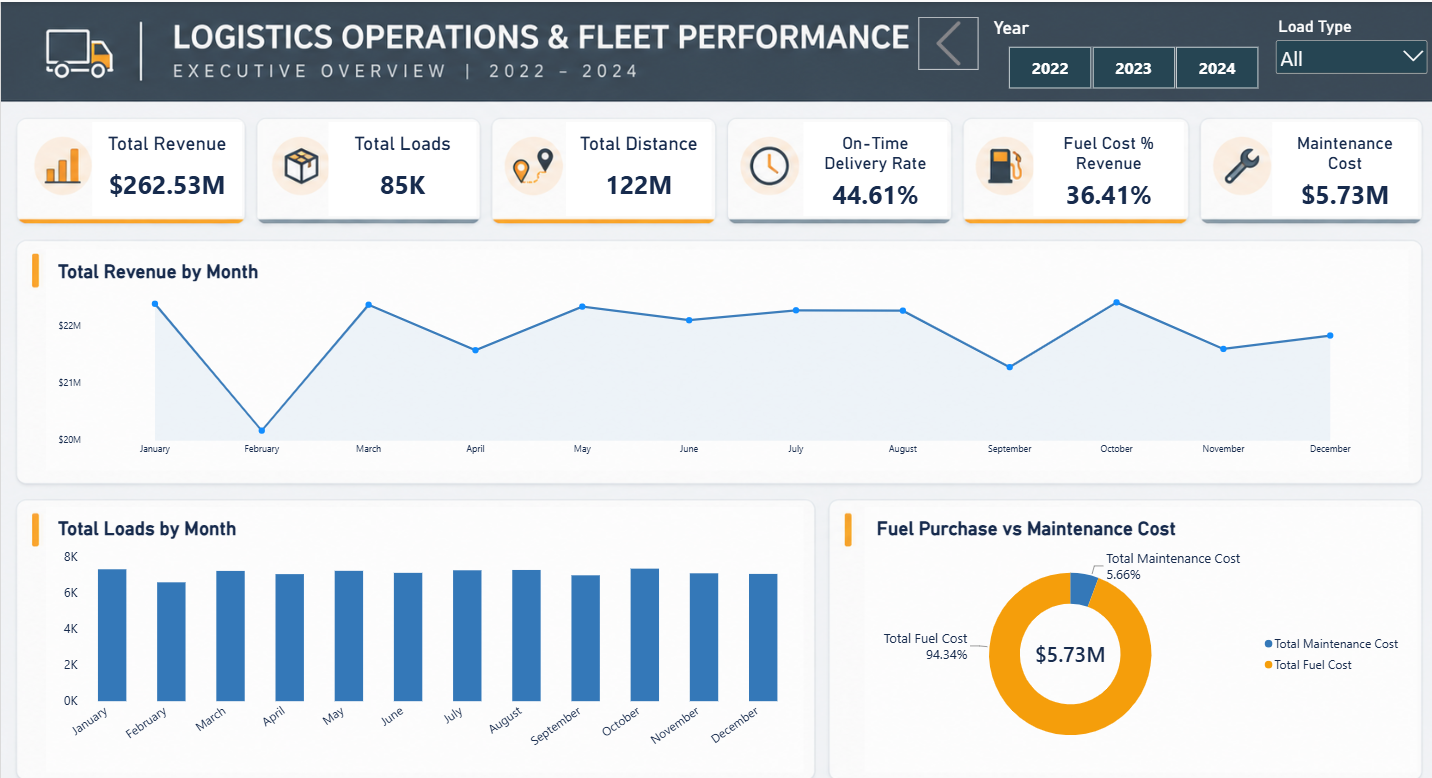

This screenshot's page, from the dashboard's own definition file:
{"tool":"powerbi","page":{"name":"Executive Overview","canvas":[1920,1080],"ordinal":0},"visuals":[{"type":"card","title":"Total Revenue","fields":{"Values":["aMeasures.Total_Revenue"]},"box":[122.2,161.1,200,125.6],"z":0},{"type":"card","title":"Total Loads","fields":{"Values":["aMeasures.Total Loads"]},"box":[437.8,161.1,197.8,125.6],"z":1000},{"type":"card","title":"Total Distance","fields":{"Values":["aMeasures.Total Distance"]},"box":[754.4,161.1,194.4,125.6],"z":2000},{"type":"card","title":"On-Time Delivery Rate","fields":{"Values":["aMeasures.On-Time Delivery Rate"]},"box":[1072.2,161.1,192.2,125.6],"z":3000},{"type":"card","title":"Maintenance Cost","fields":{"Values":["aMeasures.Total Maintenance Cost"]},"box":[1697.8,161.1,194.4,125.6],"z":4000},{"type":"card","title":"Fuel Cost % Revenue","fields":{"Values":["aMeasures.Fuel Cost Revenue"]},"box":[1378.9,161.1,201.1,125.6],"z":5000},{"type":"lineChart","title":"Total Revenue by Month","fields":{"Category":["Dim_Date.Year Hierarchy.Month"],"Y":["aMeasures.Total_Revenue"]},"box":[60,330,1820,295],"z":6000},{"type":"clusteredColumnChart","title":"Total Loads by Month","fields":{"Category":["Dim_Date.Year Hierarchy.Month"],"Y":["aMeasures.Total Loads"]},"box":[60,674,1012,354],"z":7000},{"type":"donutChart","title":"Fuel Purchase vs Maintenance Cost","fields":{"Y":["aMeasures.Total Maintenance Cost","aMeasures.Total Fuel Cost"]},"box":[1154,674,738,354],"z":9000},{"type":"image","box":[1755,17.5,125,102.5],"z":9002}]}

Visuals, with their boxes on the page's 1920x1080 design canvas (x1, y1, x2, y2). These are canvas units, not pixel positions in the 1432x778 screenshot, which may show the page scaled, cropped or inside an application window:
"Total Revenue" card: bbox=[122, 161, 322, 287]
"Total Loads" card: bbox=[438, 161, 636, 287]
"Total Distance" card: bbox=[754, 161, 949, 287]
"On-Time Delivery Rate" card: bbox=[1072, 161, 1264, 287]
"Maintenance Cost" card: bbox=[1698, 161, 1892, 287]
"Fuel Cost % Revenue" card: bbox=[1379, 161, 1580, 287]
"Total Revenue by Month" lineChart: bbox=[60, 330, 1880, 625]
"Total Loads by Month" clusteredColumnChart: bbox=[60, 674, 1072, 1028]
"Fuel Purchase vs Maintenance Cost" donutChart: bbox=[1154, 674, 1892, 1028]
image: bbox=[1755, 18, 1880, 120]
